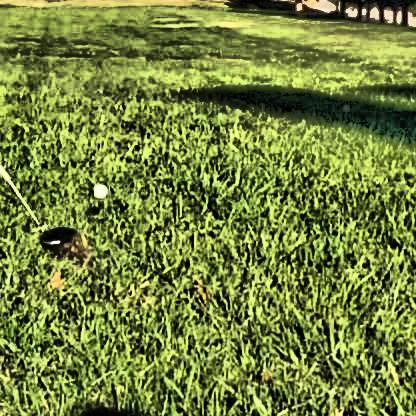golfball: (90, 180, 107, 197)
